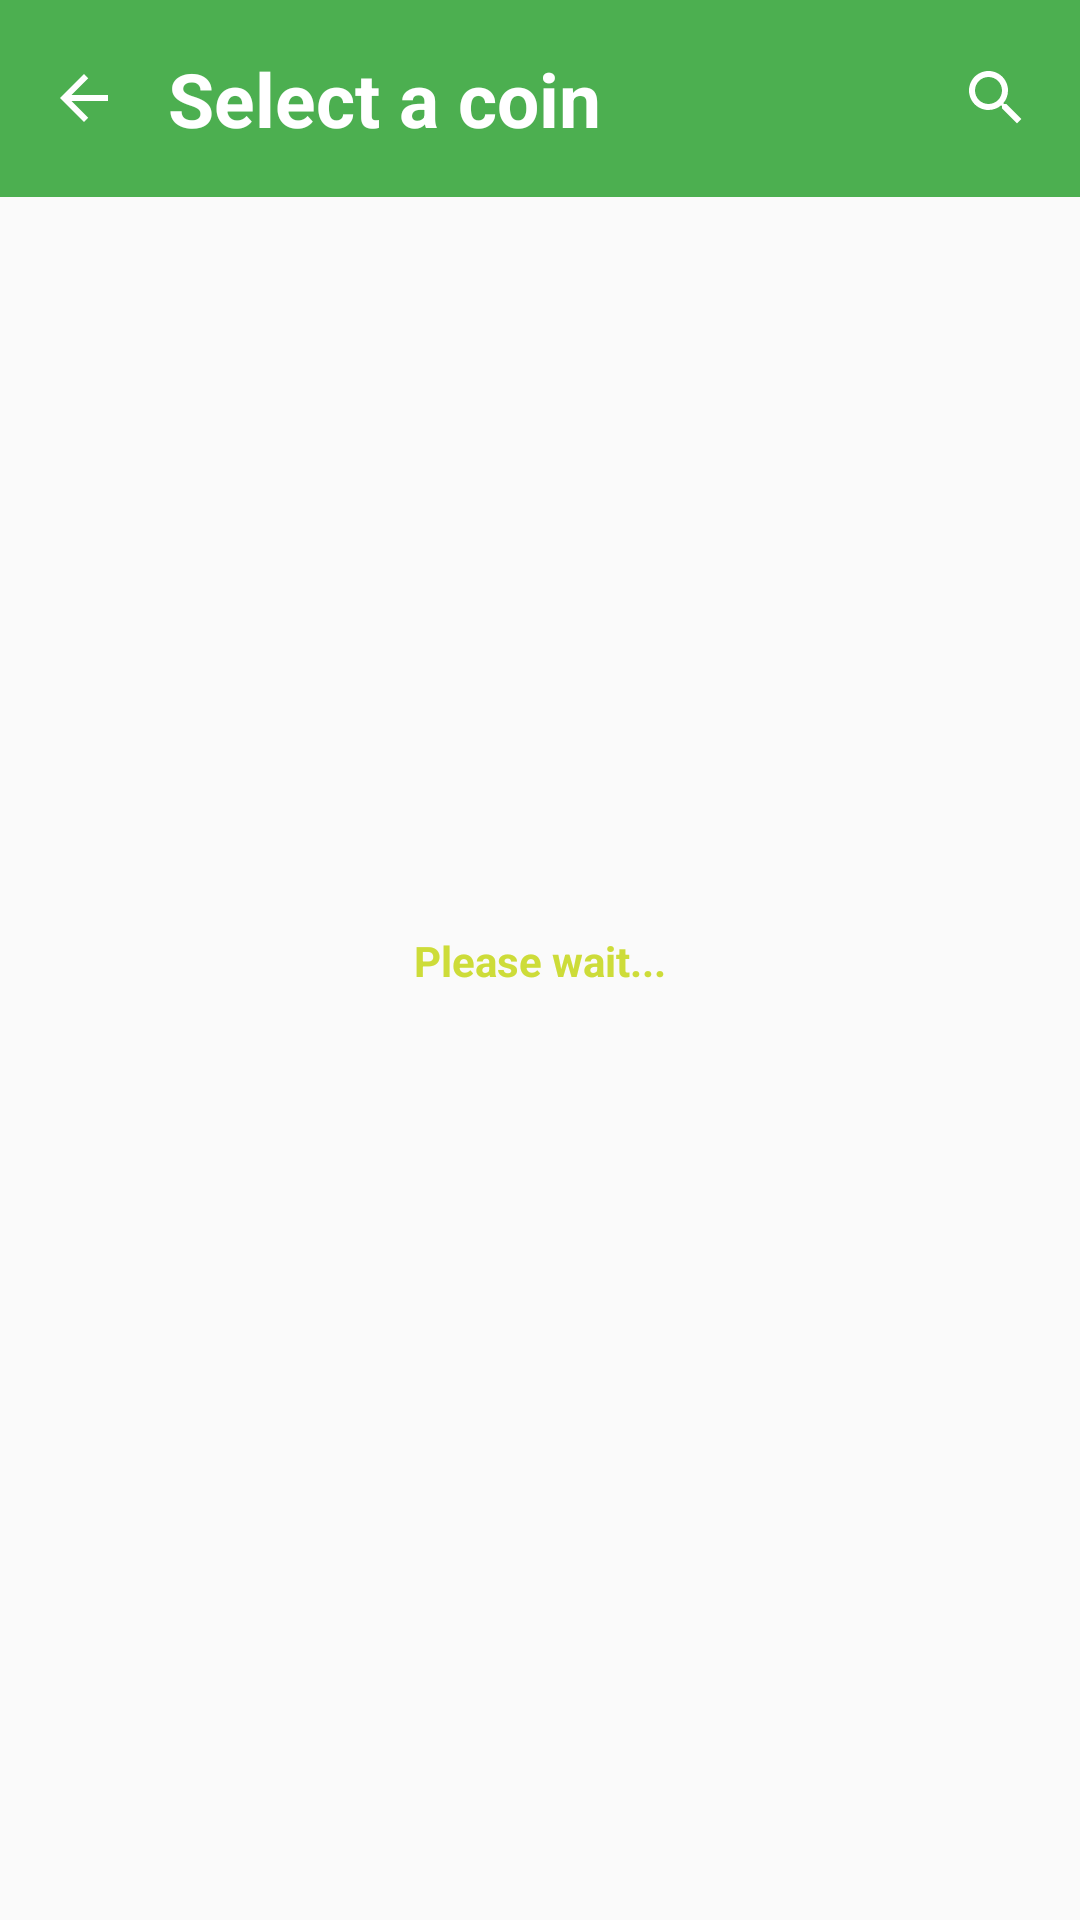

Icon bounding boxes for this 1080w x 1920h phone screenshot, format {"left": x1, "top": y1, "right": x2, "bottom": y2}:
arrow back: {"left": 60, "top": 74, "right": 108, "bottom": 122}
search: {"left": 969, "top": 71, "right": 1021, "bottom": 123}
